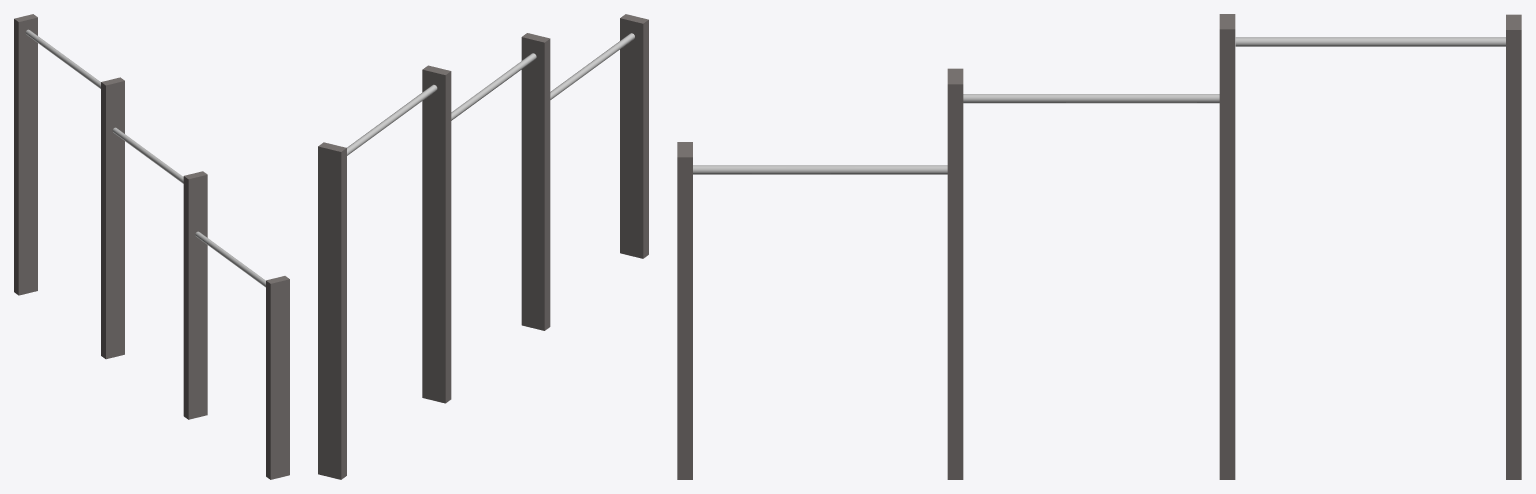
Rendered from SM_Crossbar_01.FBX.
3 renders of one model, left to right at view 1: azimuth 30°, elevation 25°; view 2: azimuth 150°, elevation 25°; view 3: azimuth 270°, elevation 25°, orthographic. The views are drawn at different scales.
Parts seen in each view (by area): view 1: SM_Crossbar_01; view 2: SM_Crossbar_01; view 3: SM_Crossbar_01.
Part boxes in pixels (bbox=[...]): SM_Crossbar_01: bbox=[14, 14, 289, 479]; SM_Crossbar_01: bbox=[318, 14, 648, 479]; SM_Crossbar_01: bbox=[677, 14, 1521, 479].
Bounding box in the file's own units: 21.8 × 503 × 296.
